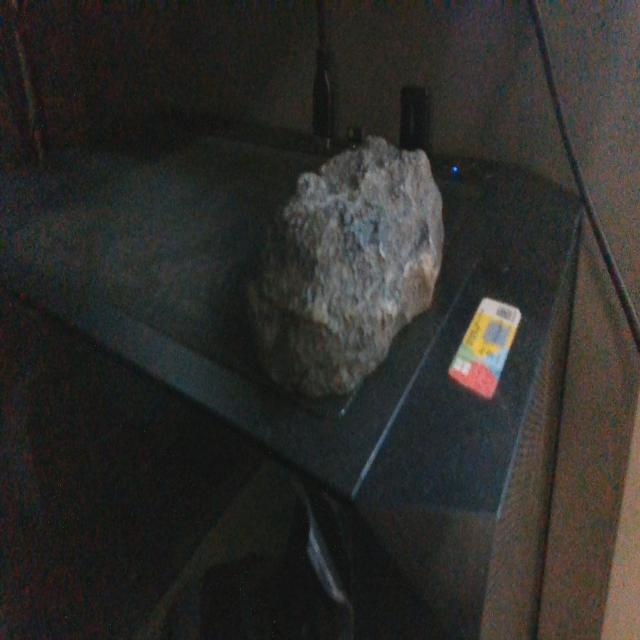stone: (246, 132, 444, 402)
